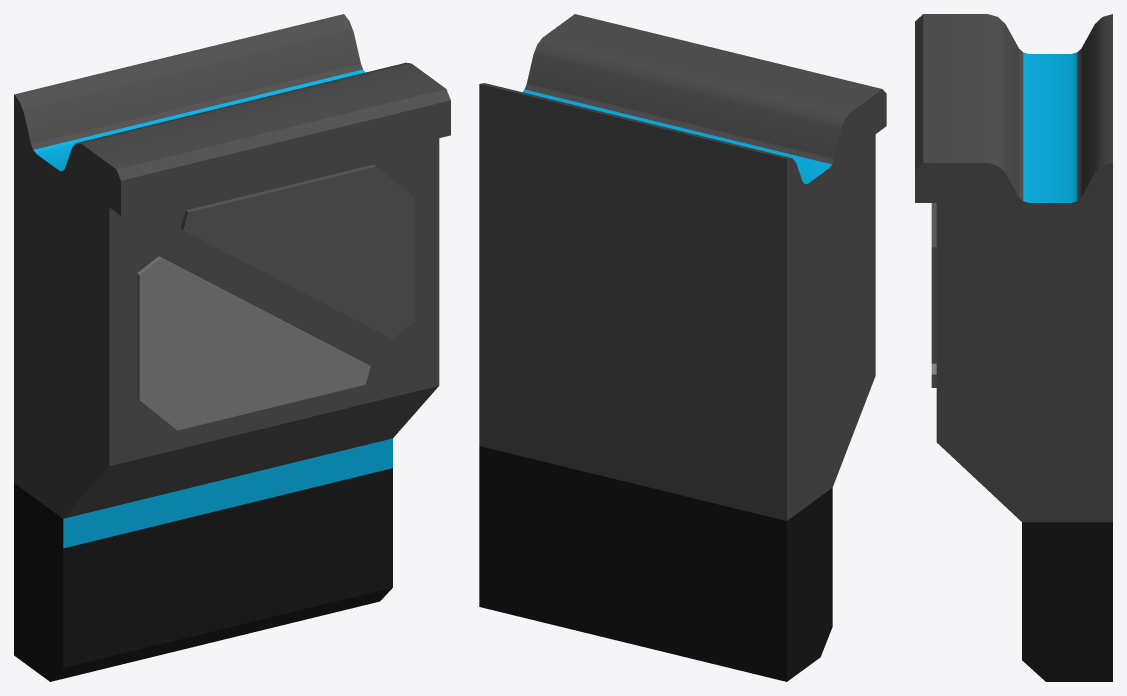
File: Floor_Edge_01I.fbx
3 renders of one model, left to right at view 1: azimuth 30°, elevation 25°; view 2: azimuth 150°, elevation 25°; view 3: azimuth 270°, elevation 25°, orthographic. The views are drawn at different scales.
Visible parts, largest first — view 1: Floor_Edge_01I; view 2: Floor_Edge_01I; view 3: Floor_Edge_01I.
Part boxes in pixels (bbox=[...]): Floor_Edge_01I: bbox=[14, 14, 450, 681]; Floor_Edge_01I: bbox=[479, 14, 886, 681]; Floor_Edge_01I: bbox=[915, 14, 1112, 681].
Bounding box in the file's own units: 400 × 650 × 225.
